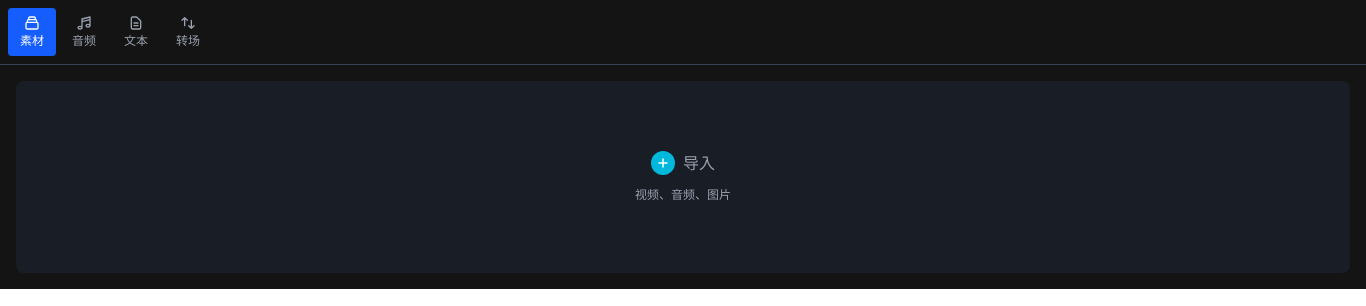
MediaLibrary › 6.1.3 测试标签页切换 › should switch to 文本 tab when clicked
The width and height of the screenshot is (1366, 306).
Step 1. Click the button "文本" → {"x": 136, "y": 32}, box left=112, top=8, right=160, bottom=56
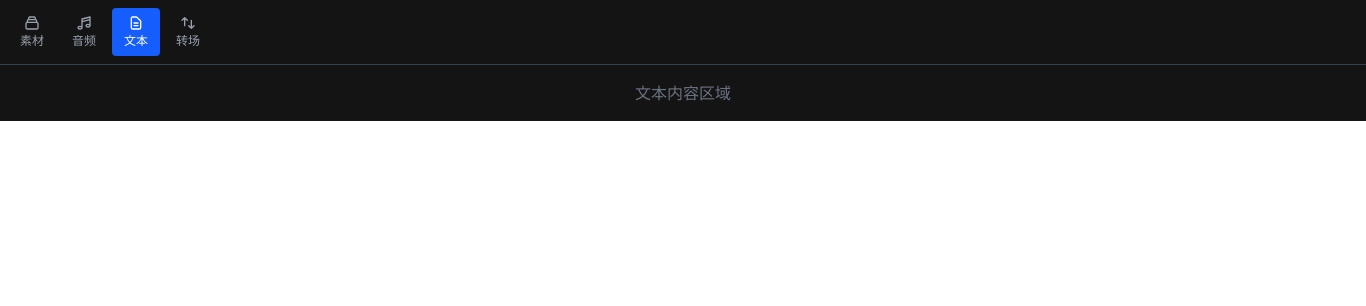
Expected: the text "文本内容区域" is shown, left=635, top=81, right=731, bottom=105
